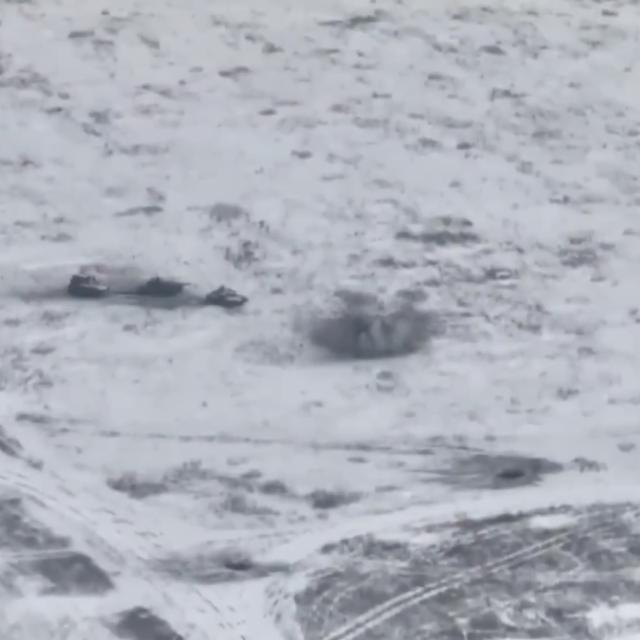vehicle: (137, 269, 188, 302), (206, 284, 247, 310), (69, 272, 107, 299)
